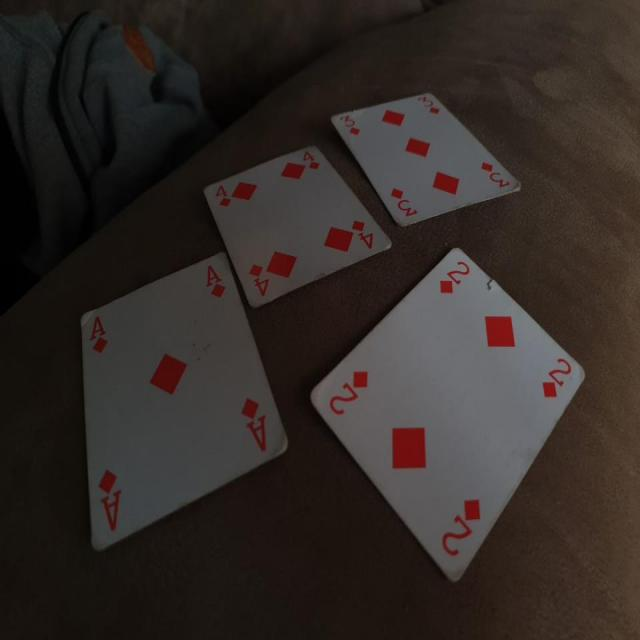2 Diamonds: (306, 247, 591, 584)
3 Diamonds: (326, 88, 525, 232)
4 Diamonds: (202, 143, 393, 307)
A Diamonds: (72, 247, 289, 568)
